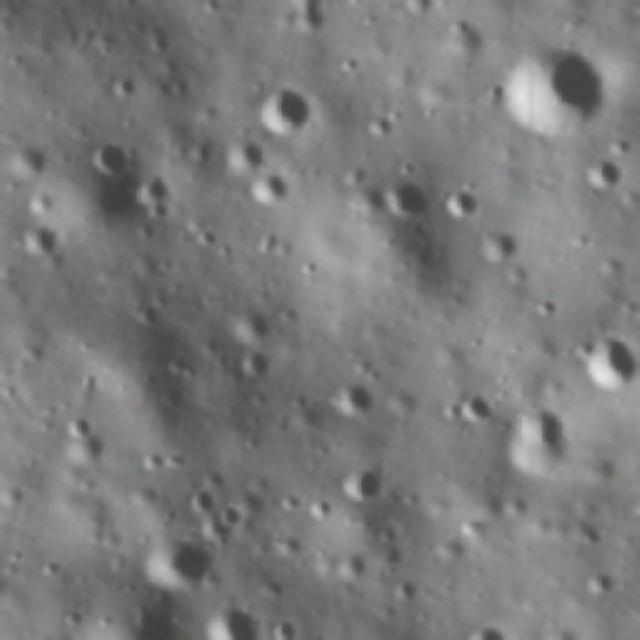crater: (500, 39, 612, 150), (143, 532, 222, 600), (508, 404, 578, 479), (575, 335, 640, 399), (251, 78, 315, 138), (198, 601, 266, 640), (384, 173, 433, 224), (87, 137, 138, 183), (466, 223, 520, 266), (436, 180, 482, 226), (328, 378, 374, 422), (4, 141, 54, 181), (574, 153, 618, 196), (15, 220, 60, 262), (342, 468, 388, 508), (222, 136, 268, 176), (250, 172, 298, 210), (226, 306, 272, 345), (292, 0, 338, 38), (128, 170, 178, 204), (438, 15, 479, 56), (329, 546, 371, 586), (461, 391, 501, 431), (57, 407, 98, 444), (238, 348, 278, 384), (104, 73, 144, 109), (141, 27, 181, 62), (361, 112, 399, 146), (183, 485, 222, 518), (576, 574, 621, 600), (23, 188, 57, 221), (389, 576, 422, 609), (214, 504, 249, 534), (304, 496, 336, 527), (145, 200, 180, 226), (266, 615, 300, 640), (402, 0, 440, 22), (574, 526, 606, 552), (335, 162, 371, 185), (435, 402, 468, 426), (606, 131, 634, 158), (192, 228, 223, 252), (533, 296, 559, 321), (21, 0, 57, 8)
